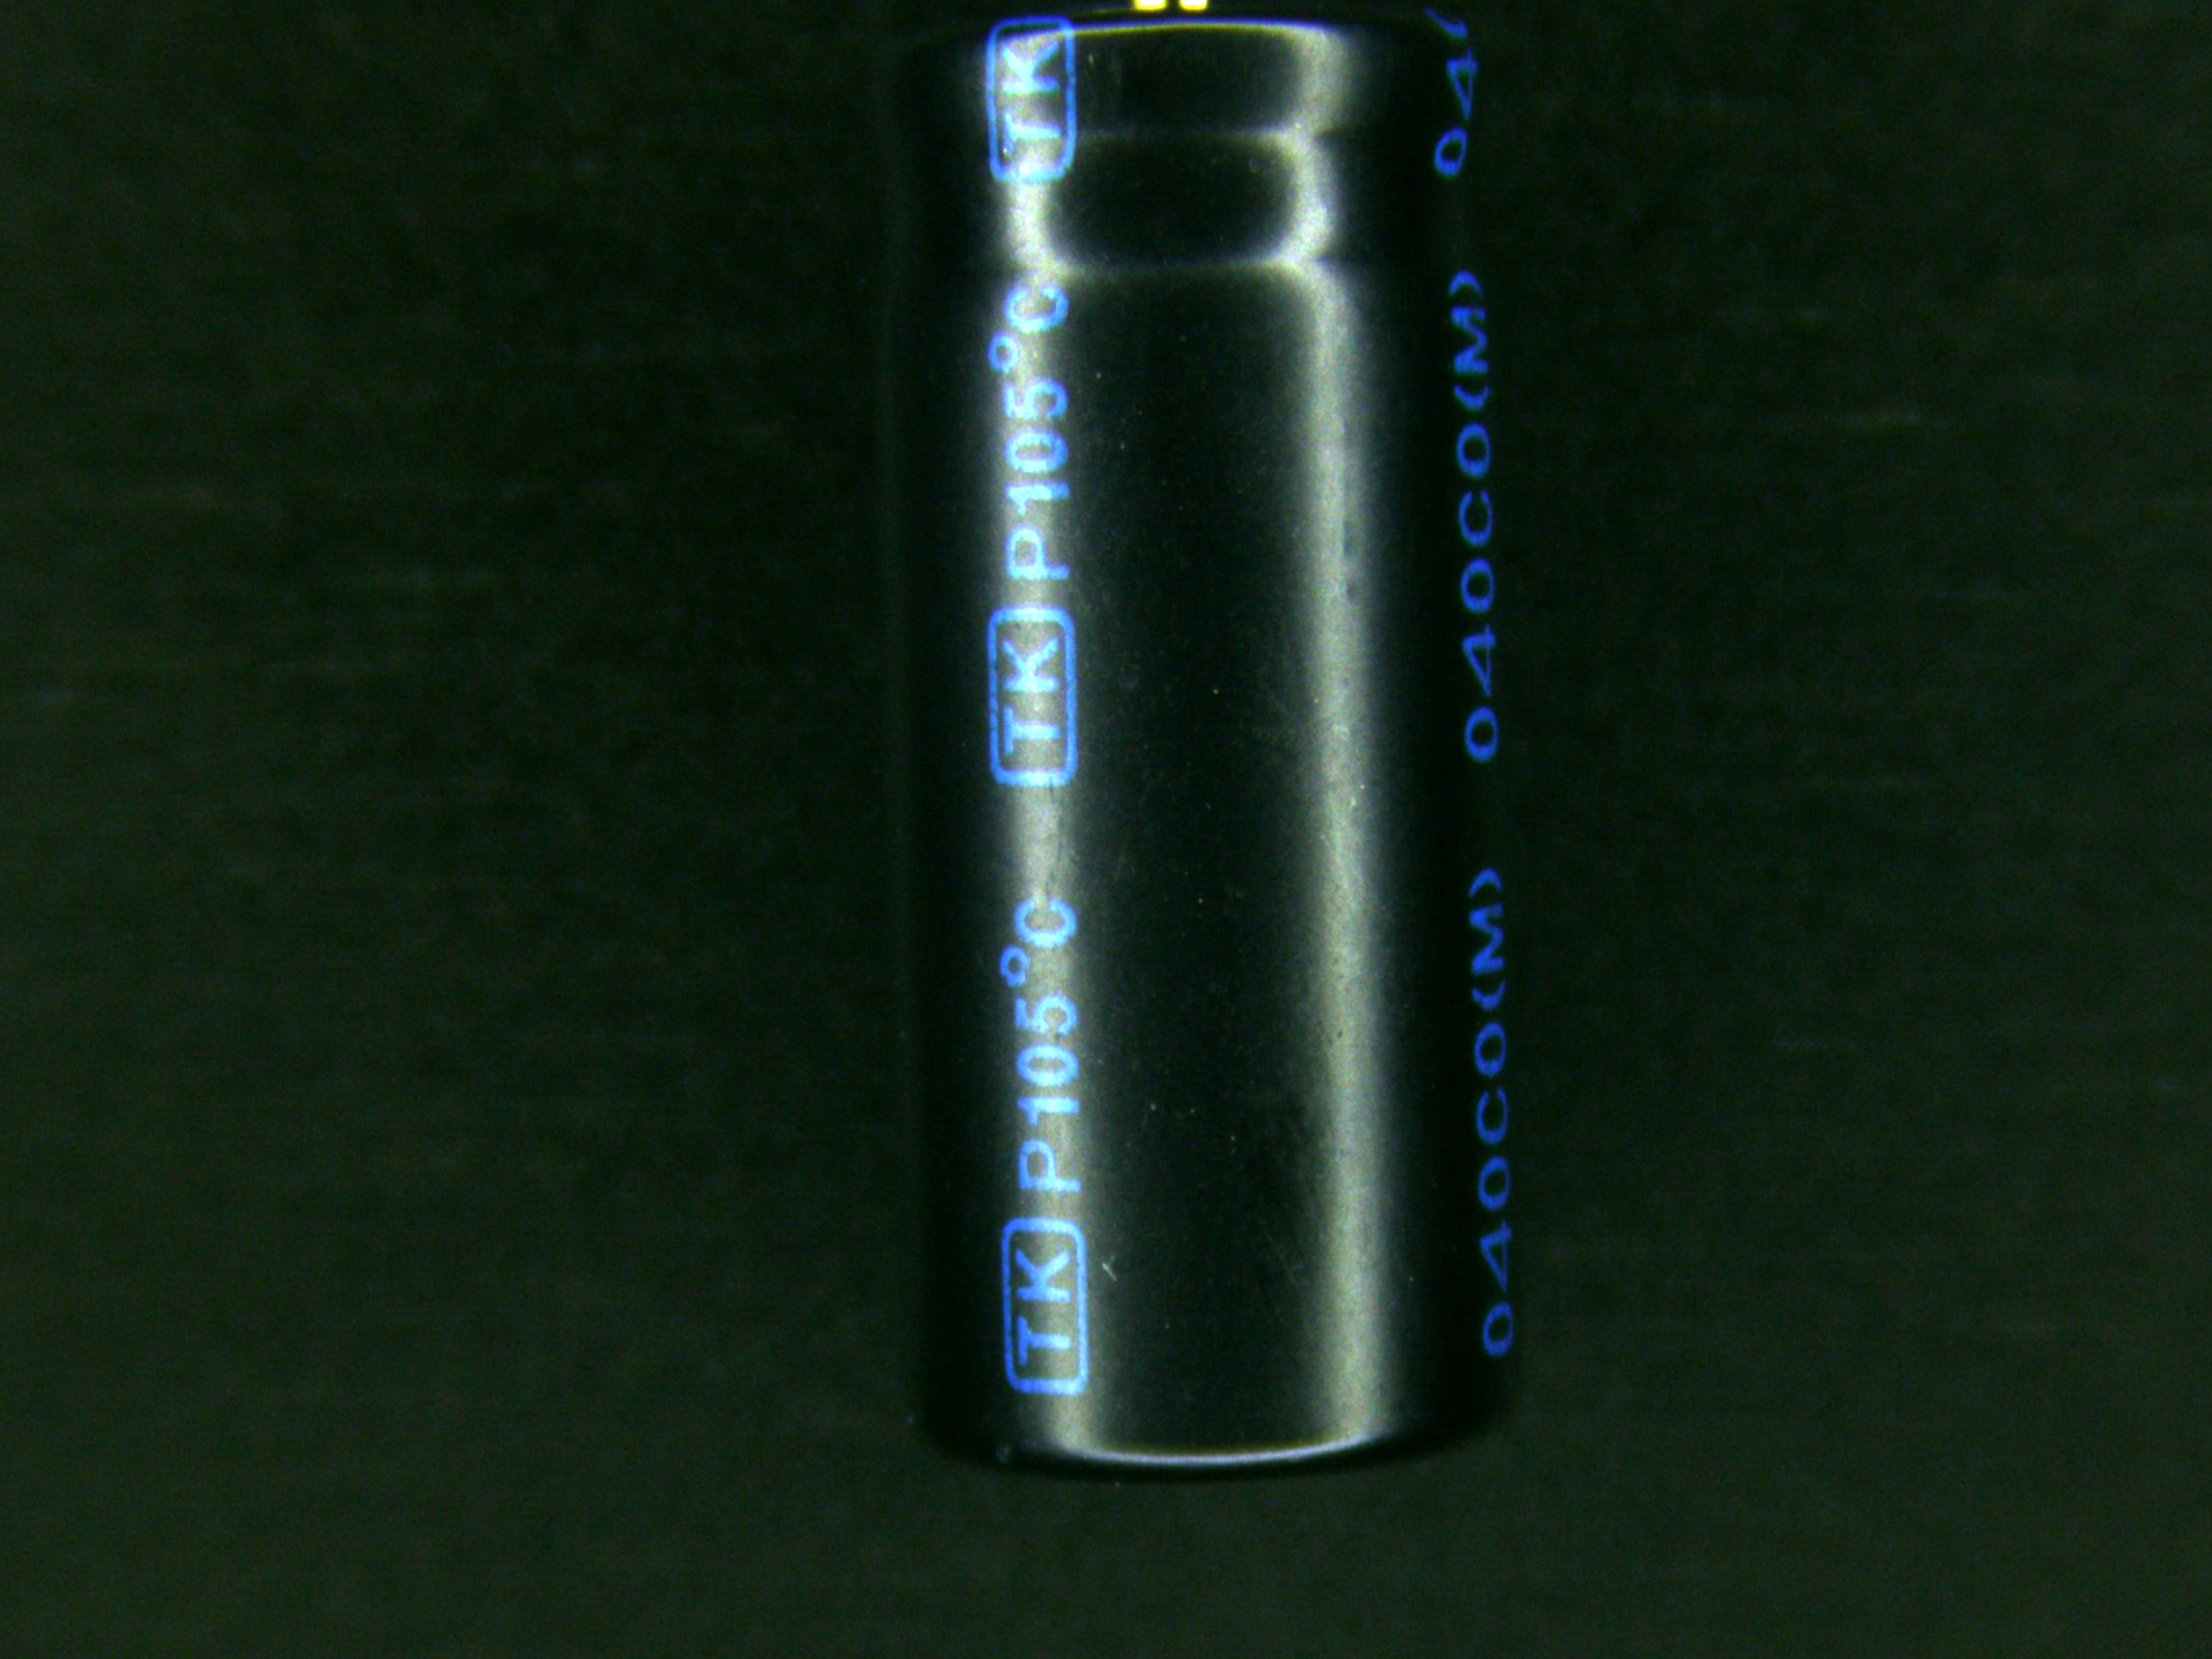c2: (871, 0, 1547, 1481)
